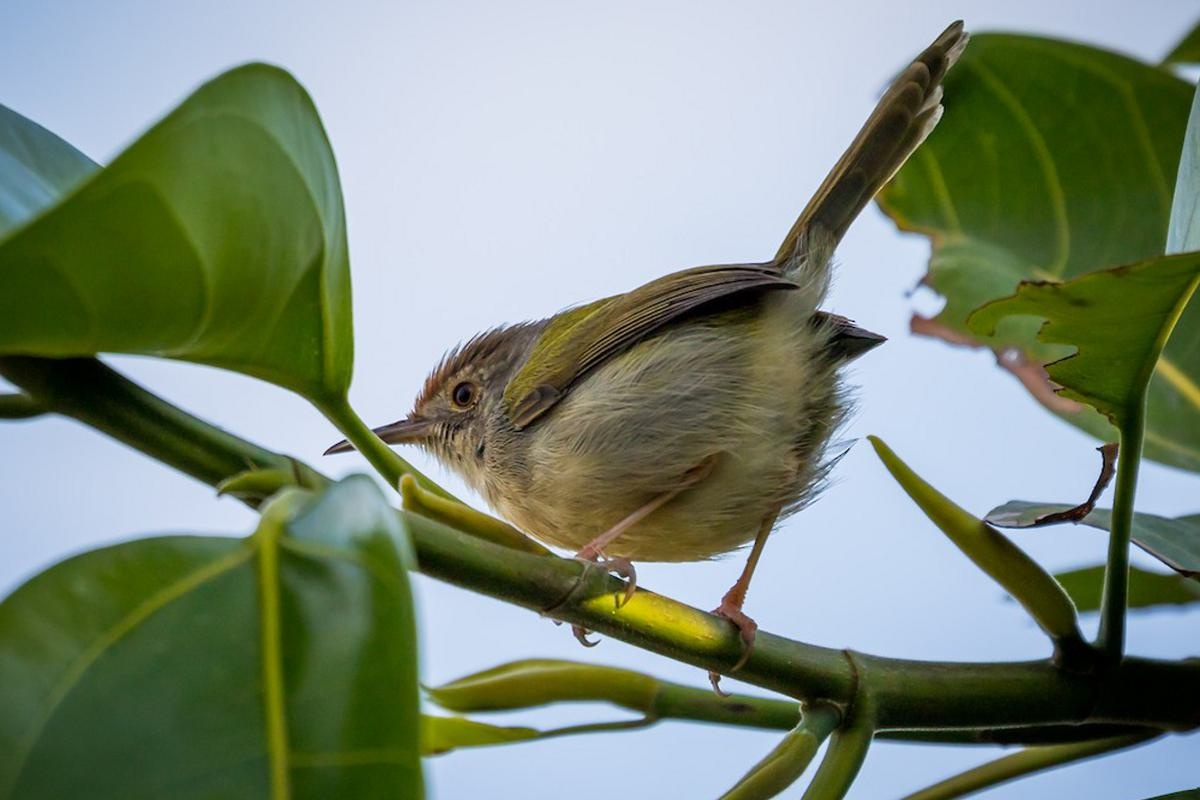tailorbird: (321, 43, 973, 657)
